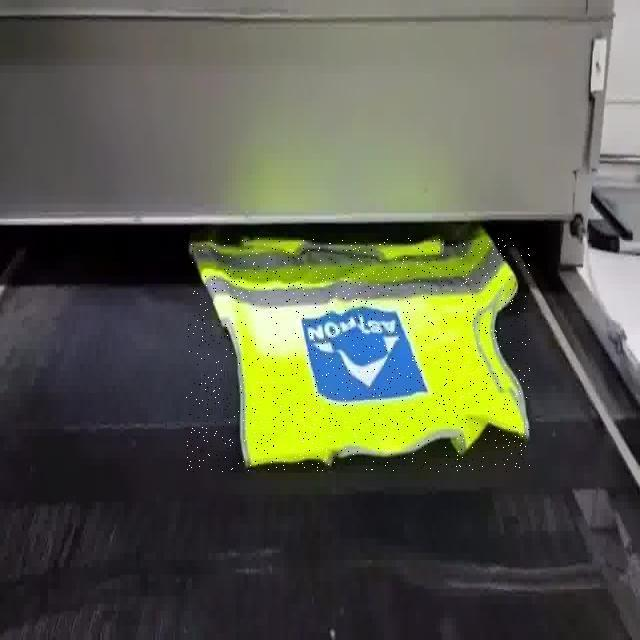vest: (185, 238, 530, 472)
